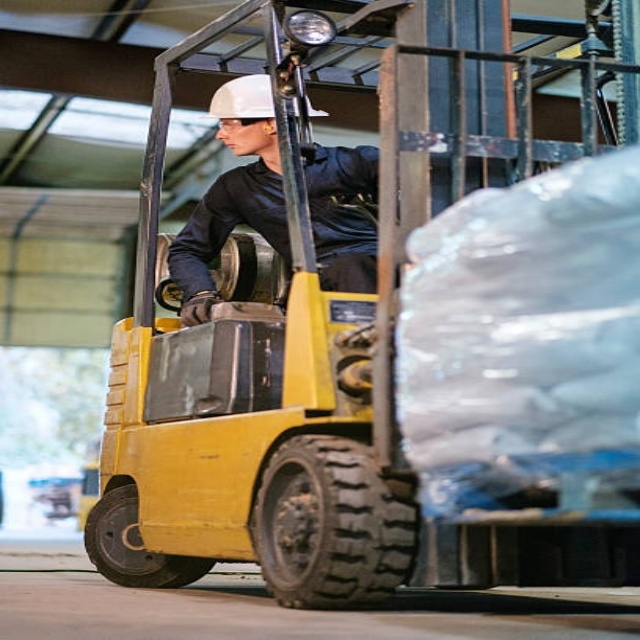Gafas: (217, 118, 267, 128)
Guantes: (180, 291, 222, 329)
Sin_mascara: (220, 135, 249, 154)
